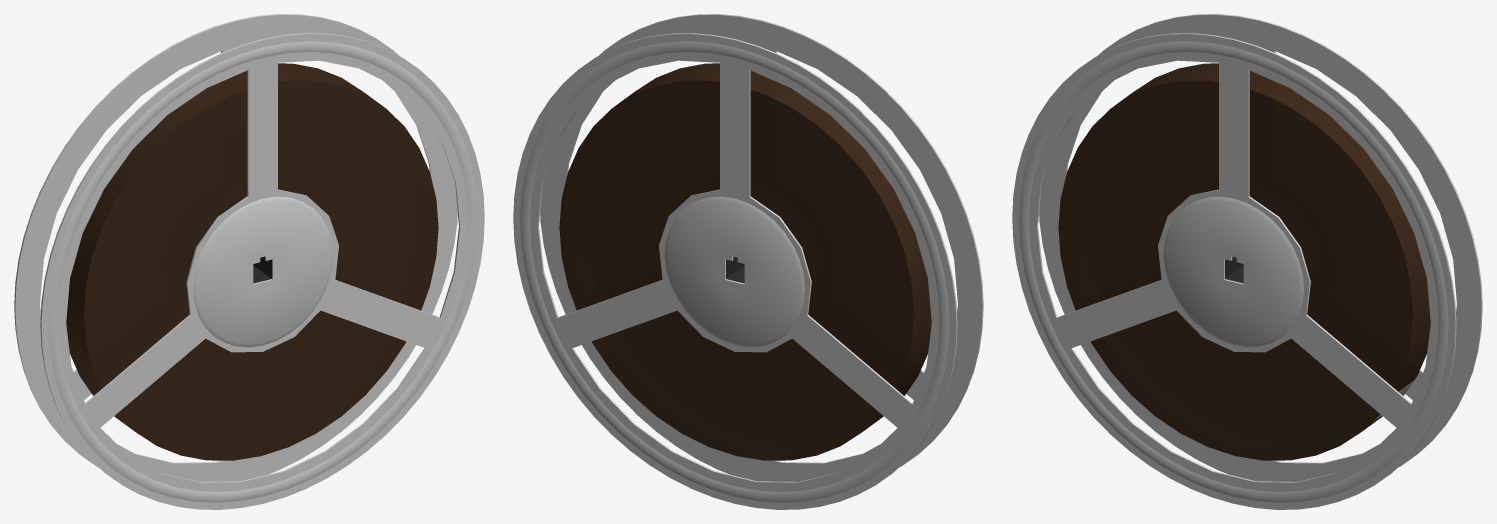
Rendered from film_reel.glb.
3 renders of one model, left to right at view 1: azimuth 30°, elevation 25°; view 2: azimuth 150°, elevation 25°; view 3: azimuth 330°, elevation 25°, orthographic.
Visible parts, largest first — view 1: reel_body, film_reel; view 2: reel_body, film_reel; view 3: reel_body, film_reel.
Part boxes in pixels (bbox=[...]): reel_body: bbox=[14, 14, 477, 502]; film_reel: bbox=[40, 33, 484, 509]; reel_body: bbox=[513, 33, 957, 509]; film_reel: bbox=[540, 14, 983, 481]; reel_body: bbox=[1019, 14, 1482, 502]; film_reel: bbox=[1012, 33, 1456, 509].
Bounding box in the file's own units: 0.18 × 0.18 × 0.0206.
